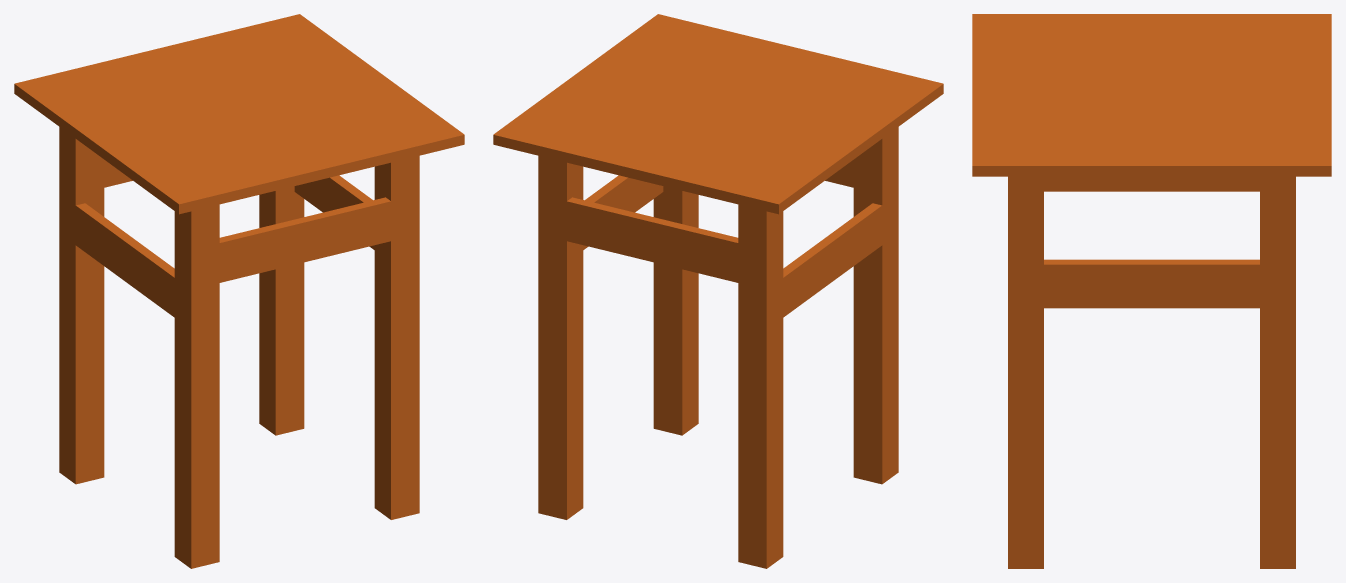
The model's file is SM_Mesita.glb.
3 views of the same model, side by side, from view 1: azimuth 30°, elevation 25°; view 2: azimuth 150°, elevation 25°; view 3: azimuth 270°, elevation 25° (orthographic). The views are drawn at different scales.
Parts seen in each view (by area): view 1: SM_Estructura, SM_MaderaFrente, SM_MaderaIzq, SM_MaderaDer; view 2: SM_Estructura, SM_MaderaAtras, SM_MaderaIzq, SM_MaderaDer; view 3: SM_Estructura, SM_MaderaDer, SM_MaderaIzq.
Boxes of the visible parts, <box> form: SM_Estructura: <box>14,14,464,568</box>; SM_MaderaFrente: <box>219,197,390,282</box>; SM_MaderaIzq: <box>75,203,174,317</box>; SM_MaderaDer: <box>294,175,374,249</box>; SM_Estructura: <box>493,14,943,568</box>; SM_MaderaAtras: <box>567,197,738,282</box>; SM_MaderaIzq: <box>783,203,882,317</box>; SM_MaderaDer: <box>583,175,663,249</box>; SM_Estructura: <box>972,14,1331,568</box>; SM_MaderaDer: <box>1044,259,1259,308</box>; SM_MaderaIzq: <box>1044,176,1259,191</box>.
Size of the model in its own units: 0.6 by 0.77 by 0.6.
